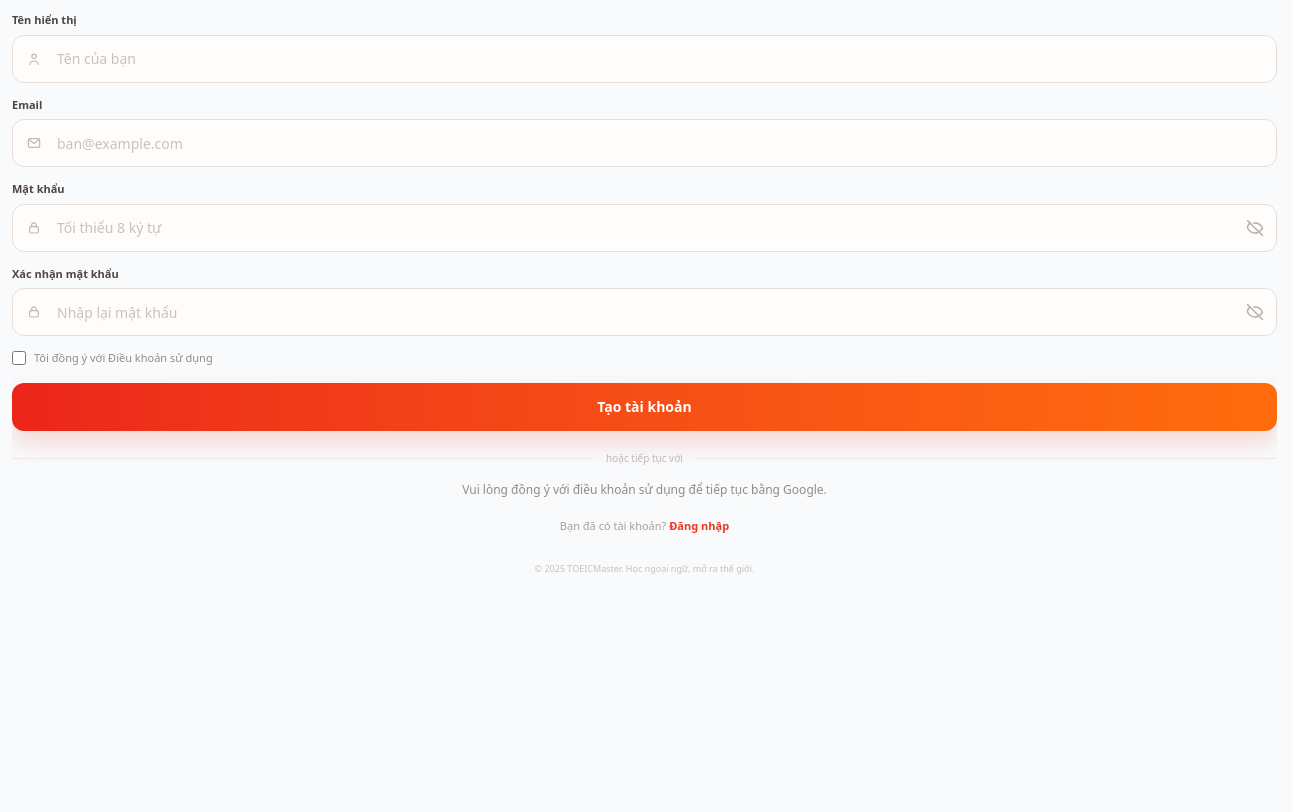
Test: RegisterForm › shows local validation errors without submitting
Click the button "Tạo tài khoản". click: {"x": 644, "y": 406}
box: left=12, top=382, right=1277, bottom=430
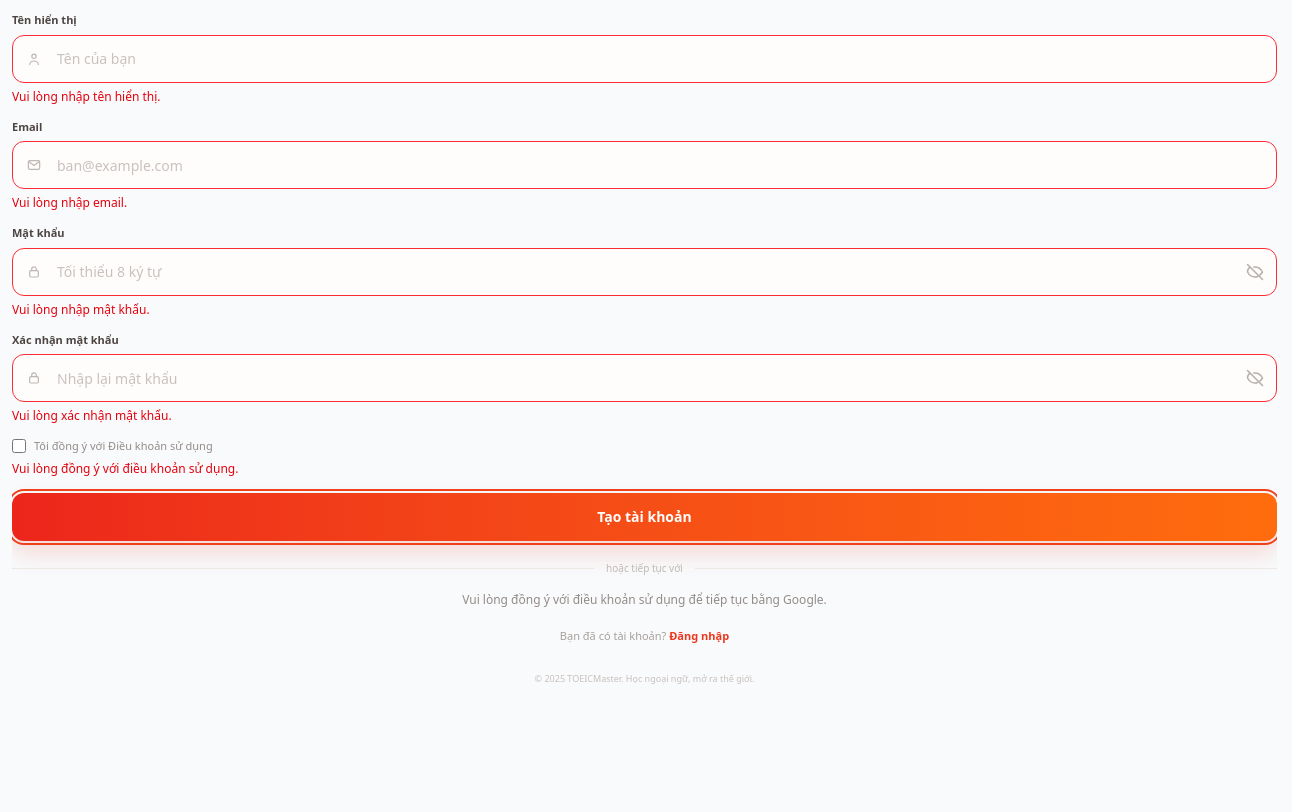
expect the text "Vui lòng nhập tên hiển thị." is shown: met, box left=12, top=88, right=161, bottom=104
expect the text "Vui lòng nhập email." is shown: met, box left=12, top=194, right=127, bottom=211
expect the text "Vui lòng nhập mật khẩu." is shown: met, box left=12, top=300, right=150, bottom=318
